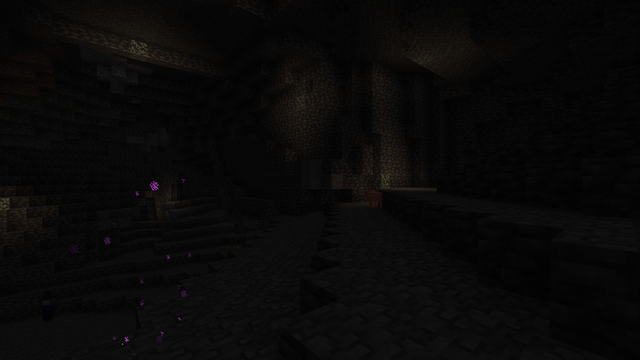cochons: (367, 191, 380, 207)
endermens: (178, 184, 182, 202)
sorcieres: (42, 295, 53, 323)
